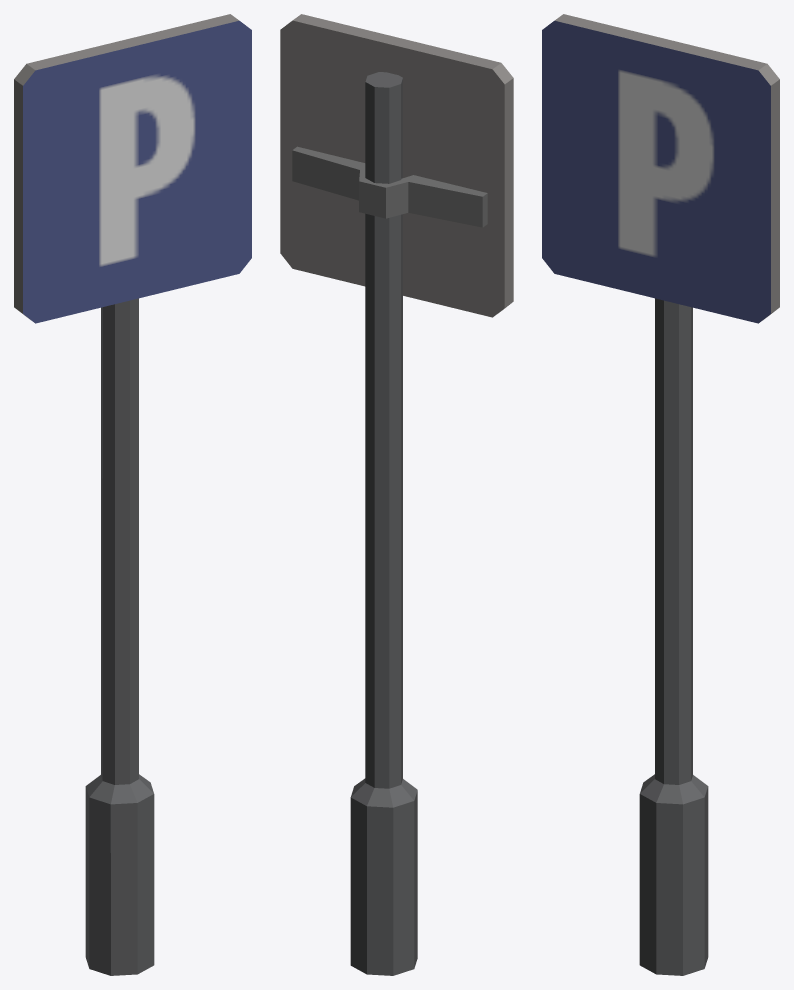
The model's file is SM_Prop_Sign_Parking_01.fbx.
3 renders of one model, left to right at view 1: azimuth 30°, elevation 25°; view 2: azimuth 150°, elevation 25°; view 3: azimuth 330°, elevation 25°, orthographic.
Visible parts, largest first — view 1: SM_Prop_Sign_Parking_01; view 2: SM_Prop_Sign_Parking_01; view 3: SM_Prop_Sign_Parking_01.
Boxes of the visible parts, left/top/right/bottom form: SM_Prop_Sign_Parking_01: left=14, top=14, right=251, bottom=975; SM_Prop_Sign_Parking_01: left=280, top=14, right=513, bottom=975; SM_Prop_Sign_Parking_01: left=542, top=14, right=779, bottom=975.
Size of the model in its own units: 44.28 by 172 by 11.86.
